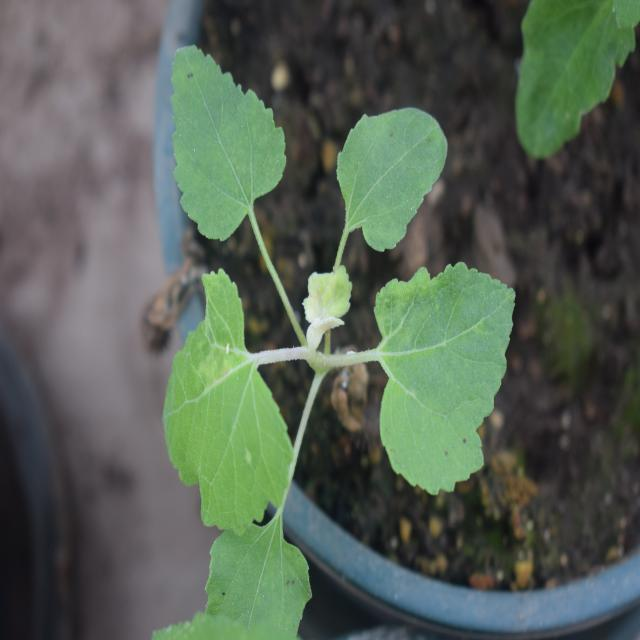cocklebur: (139, 27, 501, 534)
